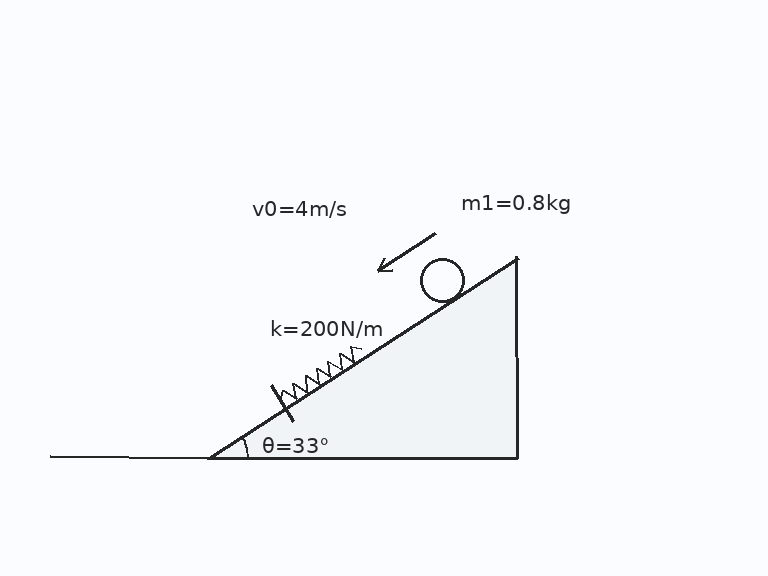ball: (418, 256, 466, 304)
ramp: (206, 255, 519, 460)
spring: (278, 344, 363, 402)
